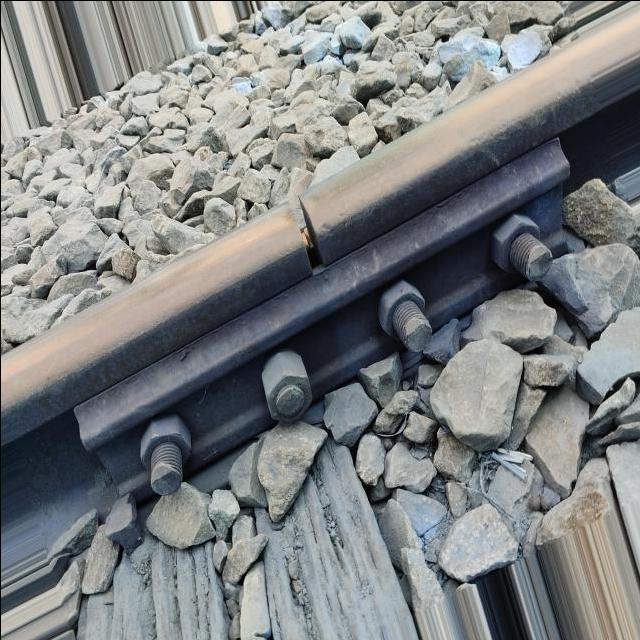broken_rail_medium: (468, 77, 583, 145), (338, 209, 352, 231), (317, 222, 331, 238)
